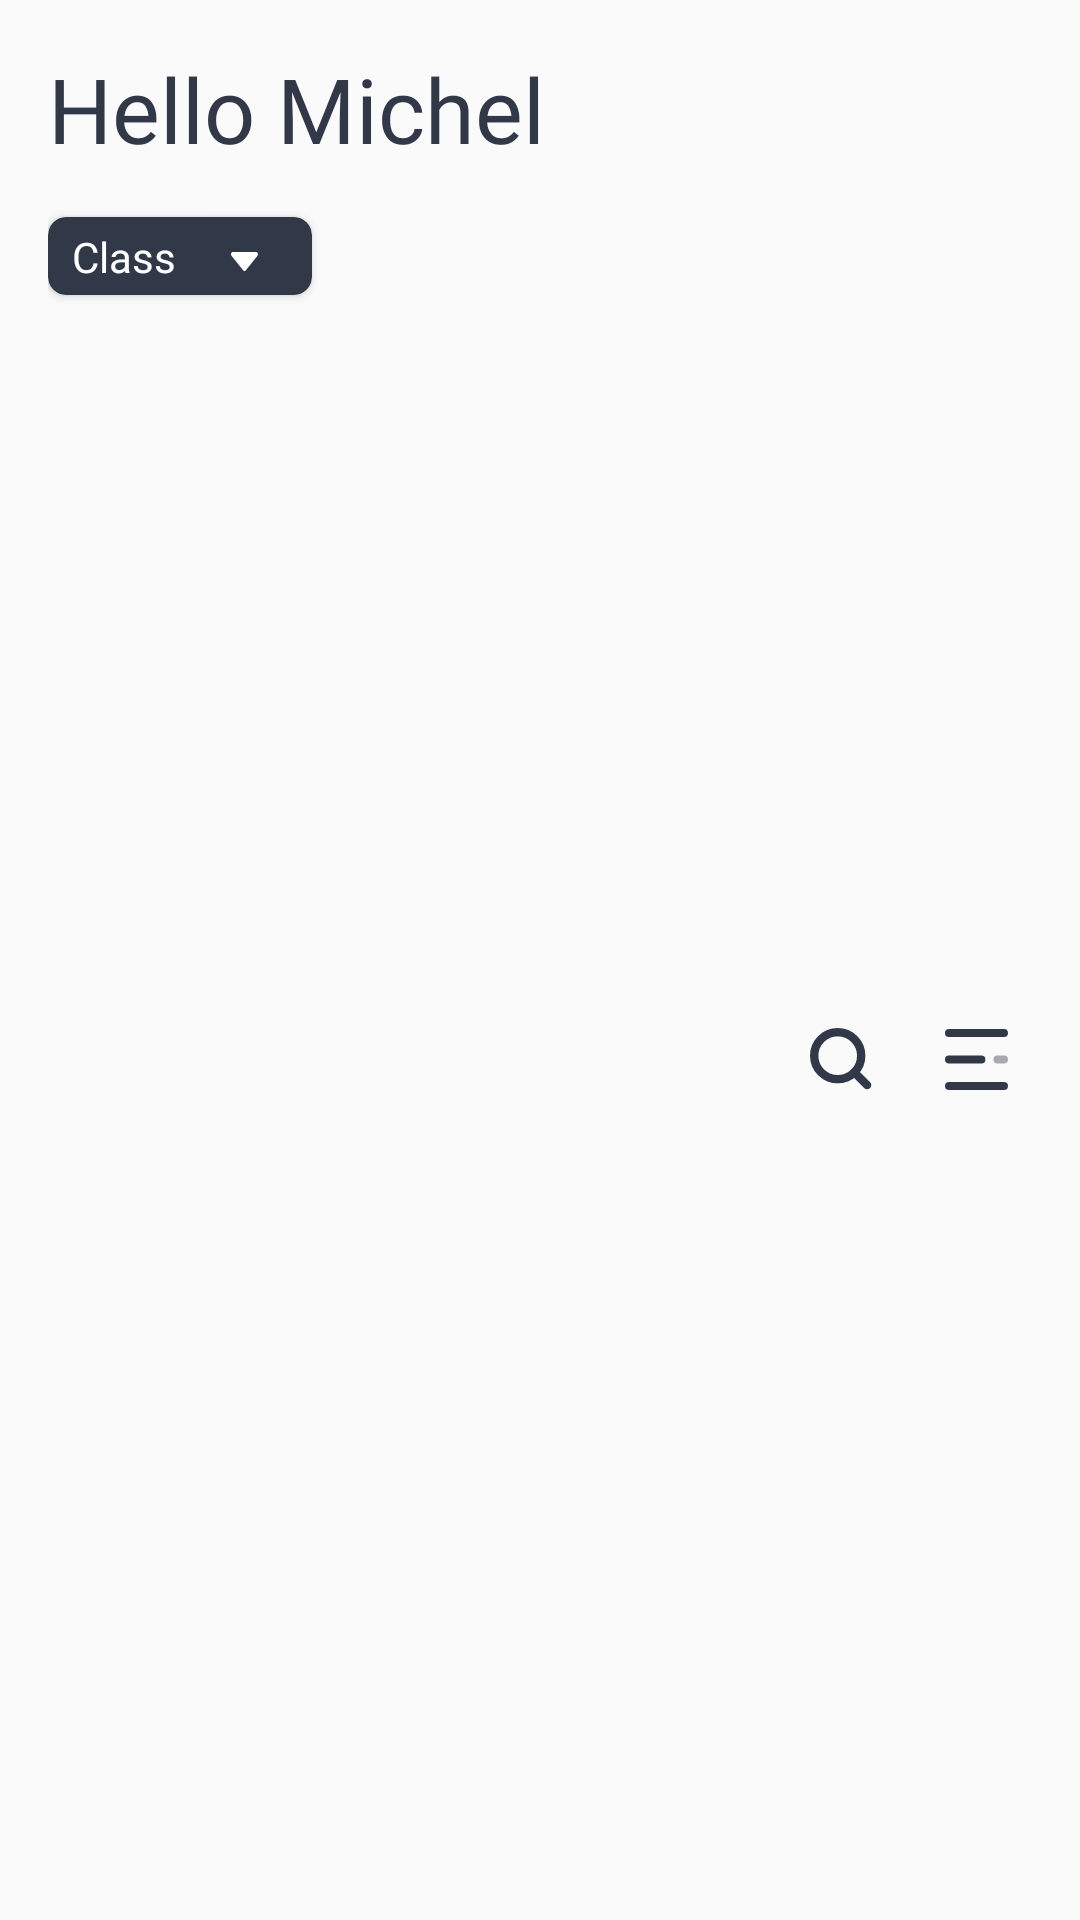

Named icons in this screenshot (1080x1920) and their bounding boxes, [x1=x1, y1=y1, x2=x2, y2=y2]:
drawer: [x1=945, y1=1029, x2=1008, y2=1090]
feather search: [x1=810, y1=1028, x2=872, y2=1090]
